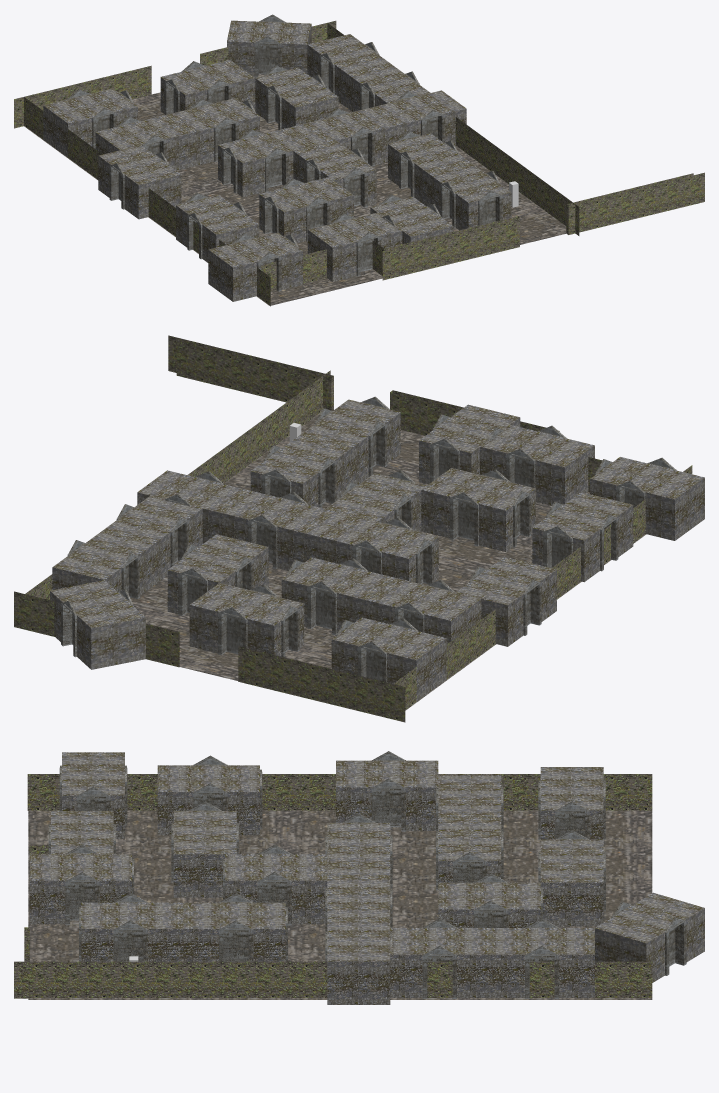
Rendered from mausoleum maze 01.FBX.
3 views of the same model, one above another, from view 1: azimuth 30°, elevation 25°; view 2: azimuth 150°, elevation 25°; view 3: azimuth 270°, elevation 25° (orthographic). The views are drawn at different scales.
Visible parts, largest first — view 1: Plane032, Plane033, Plane051, Plane049, Plane047, Plane053, Plane037, Plane060, Plane048, Plane055, Plane057, Plane056 (+13 smaller); view 2: Plane033, Plane031, Plane032, Plane047, Plane056, Plane060, Plane051, Plane057, Plane048, Plane049, Plane050, Plane053 (+13 smaller); view 3: Plane033, Plane030, Plane029, Plane053, Plane060, Plane059, Plane058, Plane041, Plane037, Plane046, Plane045, Plane050 (+11 smaller).
Part boxes in pixels (bbox=[...]): Plane032: bbox=[261, 172, 704, 291]; Plane033: bbox=[23, 74, 566, 305]; Plane051: bbox=[218, 124, 326, 197]; Plane049: bbox=[208, 232, 302, 301]; Plane047: bbox=[259, 177, 353, 243]; Plane053: bbox=[98, 145, 181, 219]; Plane037: bbox=[428, 163, 511, 230]; Plane060: bbox=[227, 14, 311, 77]; Plane048: bbox=[307, 212, 402, 281]; Plane055: bbox=[255, 65, 338, 129]; Plane057: bbox=[43, 88, 137, 157]; Plane056: bbox=[160, 60, 255, 114]; Plane033: bbox=[130, 413, 646, 710]; Plane031: bbox=[14, 591, 405, 722]; Plane032: bbox=[168, 335, 602, 492]; Plane047: bbox=[421, 468, 535, 551]; Plane056: bbox=[189, 583, 304, 657]; Plane060: bbox=[50, 580, 145, 669]; Plane051: bbox=[306, 512, 438, 584]; Plane057: bbox=[331, 617, 446, 701]; Plane048: bbox=[480, 424, 594, 505]; Plane049: bbox=[590, 457, 704, 540]; Plane050: bbox=[532, 492, 633, 582]; Plane053: bbox=[456, 557, 556, 646]; Plane033: bbox=[28, 810, 652, 999]; Plane030: bbox=[14, 961, 652, 998]; Plane029: bbox=[27, 774, 652, 810]; Plane053: bbox=[336, 751, 438, 831]; Plane060: bbox=[595, 892, 704, 982]; Plane059: bbox=[492, 918, 594, 998]; Plane058: bbox=[390, 918, 492, 998]; Plane041: bbox=[183, 893, 287, 961]; Plane037: bbox=[79, 893, 183, 961]; Plane046: bbox=[29, 844, 134, 925]; Plane045: bbox=[223, 844, 327, 925]; Plane050: bbox=[157, 755, 262, 835].
Size of the model in its own units: 3763 by 329 by 3888.
